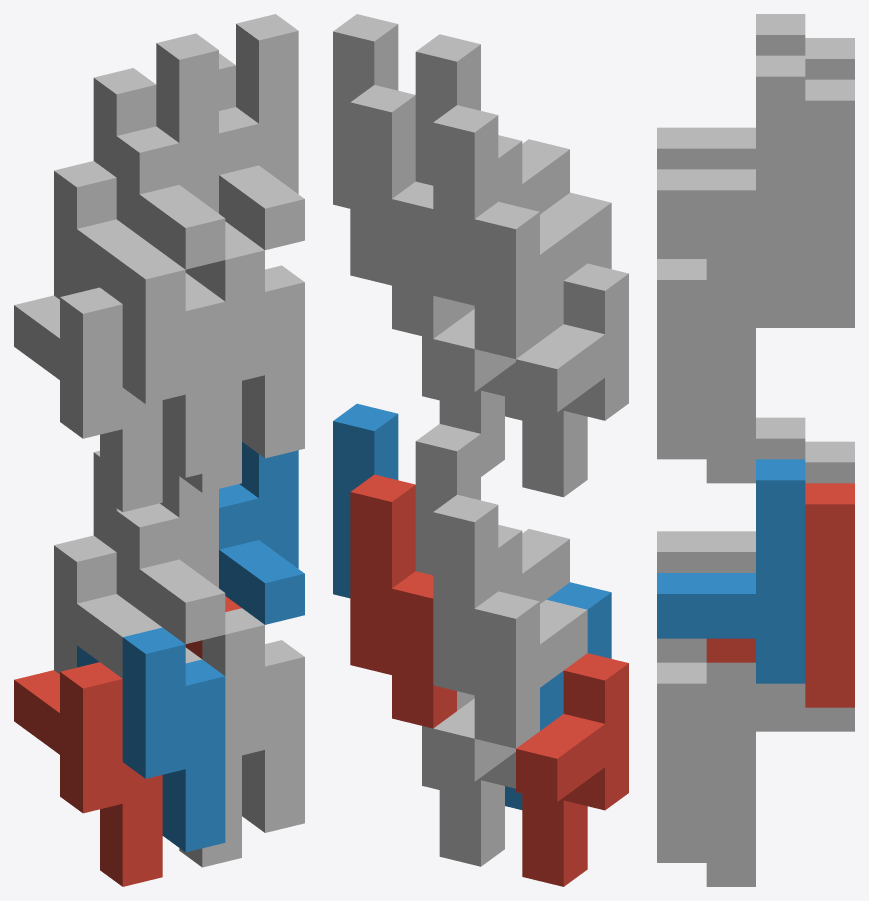
Rendered from tiling.obj.
The picture shows the model from 3 angles, left to right: view 1: azimuth 30°, elevation 25°; view 2: azimuth 150°, elevation 25°; view 3: azimuth 270°, elevation 25°; orthographic projection. The views are drawn at different scales.
Parts seen in each view (by area): view 1: copy_2_domain_4, copy_1_domain_4, copy_1_domain_2, copy_1_domain_1, copy_1_domain_3, copy_2_domain_8, copy_1_domain_6, copy_1_domain_8, copy_2_domain_2, copy_2_domain_3, copy_2_domain_6, copy_2_domain_1 (+3 smaller); view 2: copy_2_domain_3, copy_2_domain_1, copy_1_domain_1, copy_1_domain_3, copy_2_domain_5, copy_2_domain_7, copy_2_domain_2, copy_2_domain_4, copy_1_domain_5, copy_1_domain_7, copy_2_domain_8, copy_2_domain_6 (+4 smaller); view 3: copy_2_domain_8, copy_2_domain_6, copy_1_domain_6, copy_1_domain_8, copy_2_domain_5, copy_2_domain_7, copy_1_domain_5, copy_1_domain_7, copy_2_domain_4, copy_2_domain_2, copy_2_domain_1, copy_2_domain_3.
Part boxes in pixels (left/top/right/bottom): copy_2_domain_4: left=116, top=33, right=225, bottom=269; copy_1_domain_4: left=77, top=253, right=225, bottom=477; copy_1_domain_2: left=77, top=627, right=225, bottom=852; copy_1_domain_1: left=14, top=662, right=162, bottom=886; copy_1_domain_3: left=14, top=287, right=162, bottom=512; copy_2_domain_8: left=219, top=14, right=304, bottom=250; copy_1_domain_6: left=202, top=608, right=304, bottom=832; copy_1_domain_8: left=202, top=233, right=304, bottom=458; copy_2_domain_2: left=116, top=461, right=225, bottom=644; copy_2_domain_3: left=54, top=68, right=161, bottom=303; copy_2_domain_6: left=219, top=442, right=304, bottom=624; copy_2_domain_1: left=54, top=450, right=162, bottom=678; copy_2_domain_3: left=433, top=105, right=587, bottom=358; copy_2_domain_1: left=433, top=494, right=587, bottom=748; copy_1_domain_1: left=516, top=653, right=628, bottom=886; copy_1_domain_3: left=516, top=263, right=628, bottom=497; copy_2_domain_5: left=350, top=474, right=456, bottom=728; copy_2_domain_7: left=350, top=85, right=456, bottom=338; copy_2_domain_2: left=415, top=424, right=569, bottom=603; copy_2_domain_4: left=415, top=34, right=569, bottom=214; copy_1_domain_5: left=433, top=698, right=515, bottom=866; copy_1_domain_7: left=433, top=309, right=515, bottom=476; copy_2_domain_8: left=333, top=14, right=398, bottom=208; copy_2_domain_6: left=333, top=403, right=398, bottom=598; copy_2_domain_8: left=657, top=55, right=805, bottom=279; copy_2_domain_6: left=657, top=459, right=805, bottom=683; copy_1_domain_6: left=657, top=638, right=805, bottom=862; copy_1_domain_8: left=657, top=235, right=805, bottom=459; copy_2_domain_5: left=706, top=483, right=854, bottom=707; copy_2_domain_7: left=706, top=79, right=854, bottom=303; copy_1_domain_5: left=706, top=707, right=854, bottom=886; copy_1_domain_7: left=706, top=304, right=854, bottom=483; copy_2_domain_4: left=657, top=14, right=805, bottom=169; copy_2_domain_2: left=657, top=417, right=805, bottom=572; copy_2_domain_1: left=805, top=441, right=854, bottom=483; copy_2_domain_3: left=805, top=38, right=854, bottom=79.
Bounding box in the file's own units: 6 × 19 × 4.
